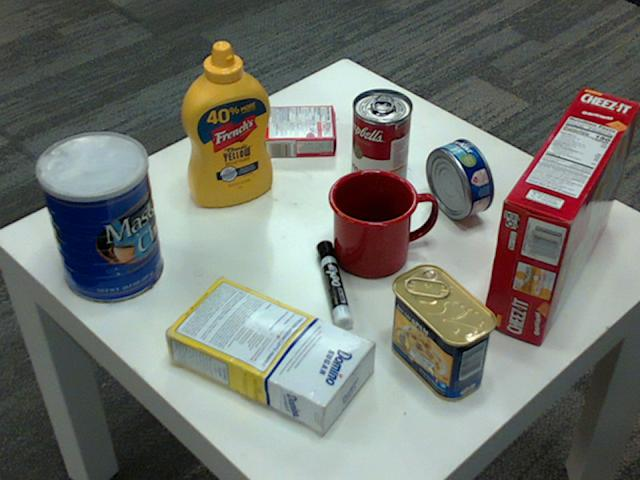cracker_box: (480, 87, 639, 343)
gelatin_box: (265, 102, 337, 155)
large_marker: (316, 242, 352, 334)
master_chef_can: (34, 132, 161, 303)
mug: (327, 167, 433, 275)
mustard_bottle: (181, 41, 272, 206)
potted_meat_can: (388, 264, 497, 400)
sugar_box: (160, 274, 372, 430)
tomato_soup_can: (350, 89, 412, 193)
tuna_fish_can: (425, 138, 492, 218)
